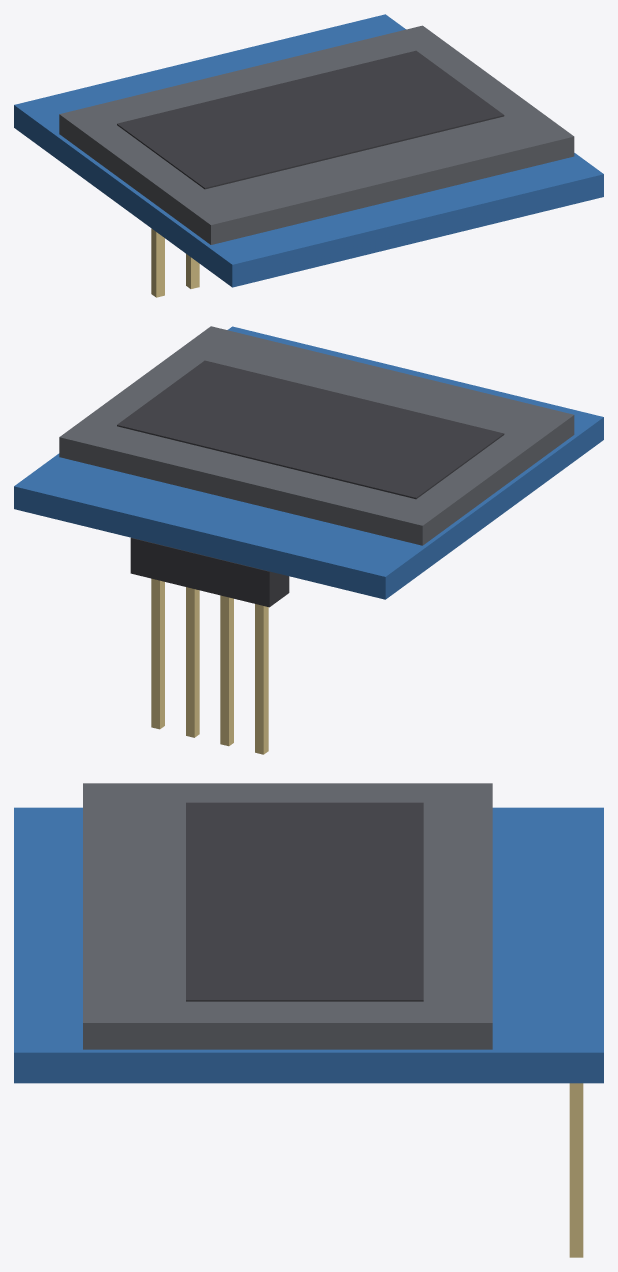
File: oled.glb
The picture shows the model from 3 angles, top to bottom: view 1: azimuth 30°, elevation 25°; view 2: azimuth 150°, elevation 25°; view 3: azimuth 270°, elevation 25°; orthographic projection. The views are drawn at different scales.
Visible parts, largest first — view 1: glass, pcb, pins; view 2: glass, pcb, pins; view 3: glass, pcb, pins.
Part boxes in pixels (bbox=[...]): glass: bbox=[59, 25, 574, 244]; pcb: bbox=[14, 14, 603, 287]; pins: bbox=[151, 228, 199, 297]; glass: bbox=[59, 326, 574, 545]; pcb: bbox=[14, 326, 603, 599]; pins: bbox=[130, 537, 289, 754]; glass: bbox=[83, 783, 492, 1049]; pcb: bbox=[14, 807, 603, 1083]; pins: bbox=[569, 1083, 583, 1257].
Size of the model in its own units: 0.0273 by 0.0166 by 0.0278.
